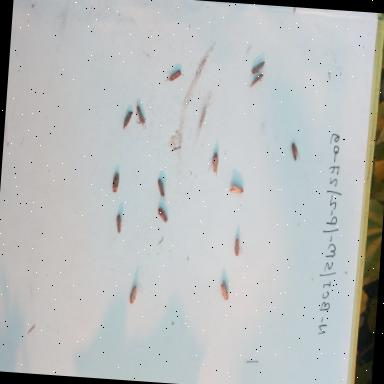pbw: (108, 210, 126, 240), (118, 104, 136, 132), (126, 282, 144, 307), (106, 166, 122, 194), (206, 146, 219, 178), (246, 70, 266, 90), (132, 104, 148, 128), (249, 58, 268, 76), (154, 206, 170, 226), (154, 176, 166, 202), (217, 280, 230, 302), (288, 141, 302, 161), (228, 182, 245, 198), (231, 232, 241, 257), (166, 68, 182, 83)
